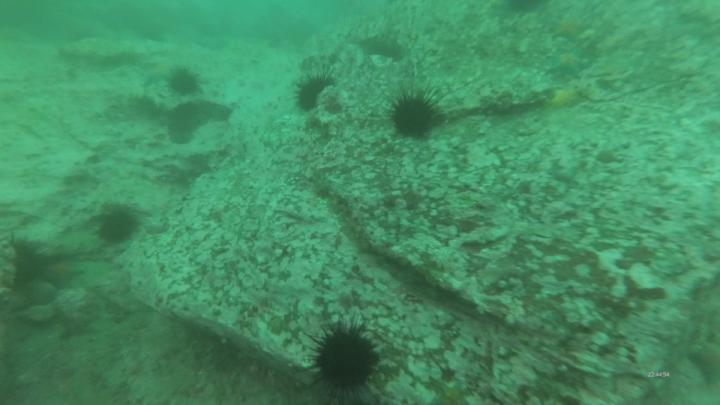echinus: (301, 322, 385, 400), (384, 88, 443, 144), (93, 205, 143, 250), (294, 72, 339, 115), (16, 240, 44, 289), (165, 65, 204, 99)
holothurian: (165, 97, 232, 148)
starfish: (548, 48, 596, 81), (38, 262, 89, 293), (547, 16, 593, 46)
